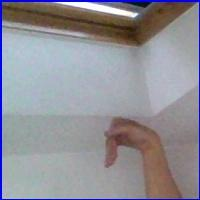del: (100, 112, 162, 173)
